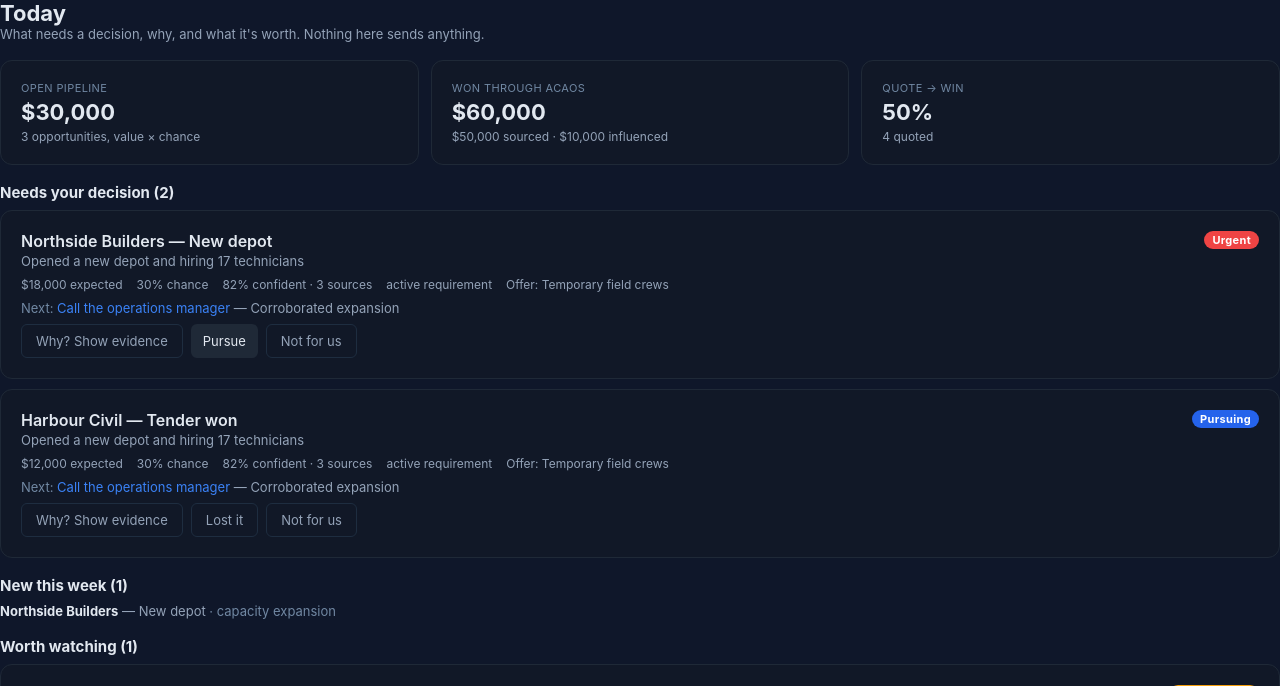
Test: Today — untrusted evidence links › a javascript: source URL is never rendered as a link
Click the button "Why? Show evidence" below "$18,000 expected": (102, 341) [21,324,183,358]
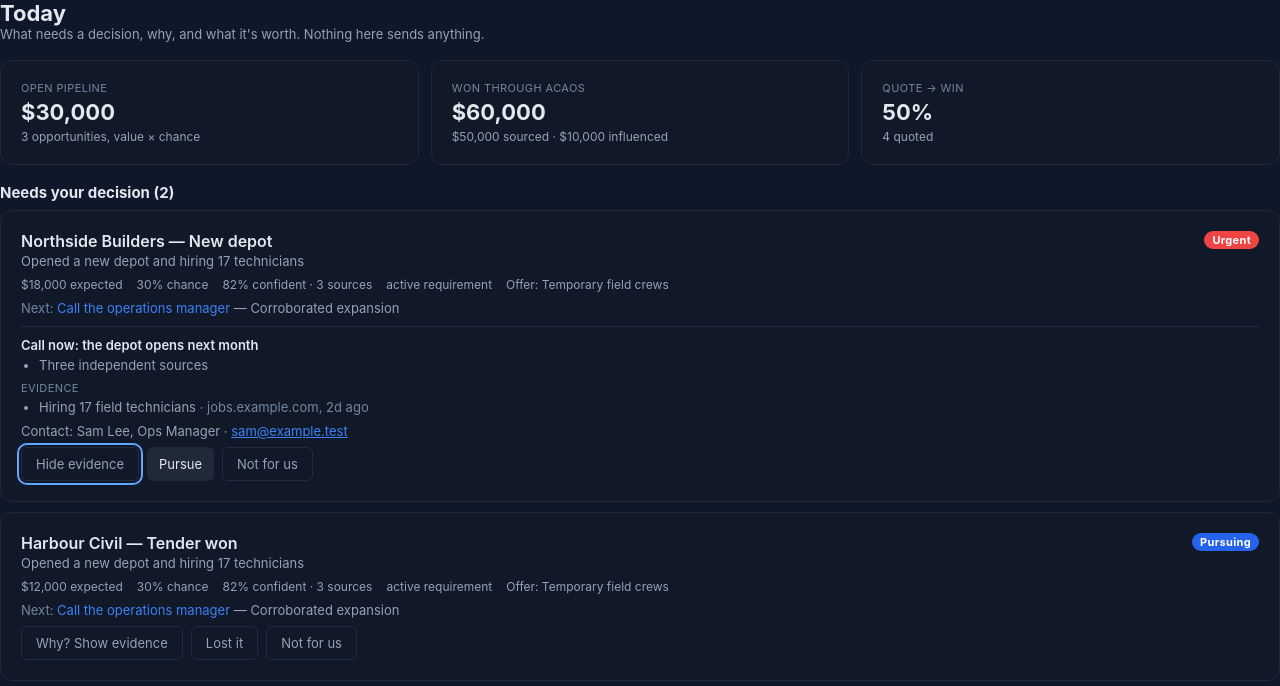
Now the list item "Hiring 17 field technicians · jobs.example.com, 2d ago" is shown, box [39,399,369,415]
